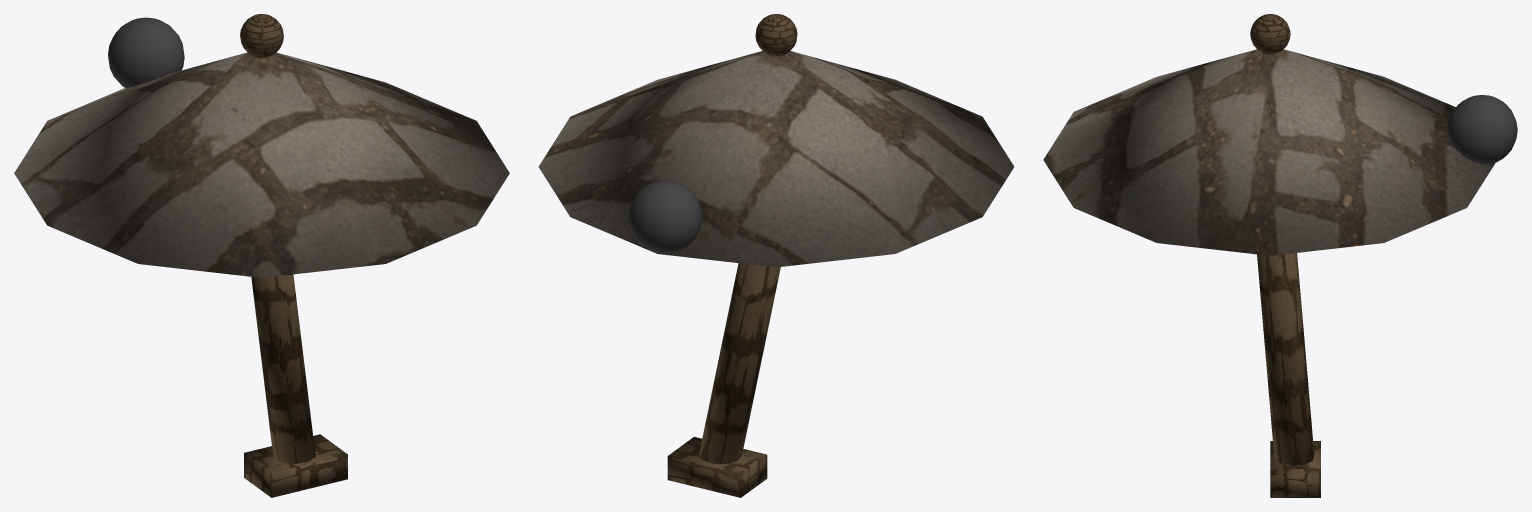
Rendered from karakasa.glb.
3 views of the same model, side by side, from view 1: azimuth 30°, elevation 25°; view 2: azimuth 150°, elevation 25°; view 3: azimuth 270°, elevation 25° (orthographic). The views are drawn at different scales.
Parts seen in each view (by area): view 1: Canopy, Leg, Eye, Foot, Knob; view 2: Canopy, Leg, Eye, Foot, Knob; view 3: Canopy, Leg, Eye, Foot, Knob.
Boxes of the visible parts, x1,y1,x2,y2 form: Canopy: (14,52,509,277); Leg: (251,274,315,463); Eye: (108,17,184,88); Foot: (244,434,347,497); Knob: (240,14,283,57); Canopy: (538,51,1014,267); Leg: (699,263,780,463); Eye: (628,180,702,253); Foot: (667,437,767,497); Knob: (755,14,797,55); Canopy: (1043,49,1495,255); Leg: (1257,253,1314,465); Eye: (1447,95,1517,164); Foot: (1270,441,1320,497); Knob: (1250,14,1290,54).
Bounding box in the file's own units: 0.9 × 0.97 × 0.94.
3 materials, 2 textured.
